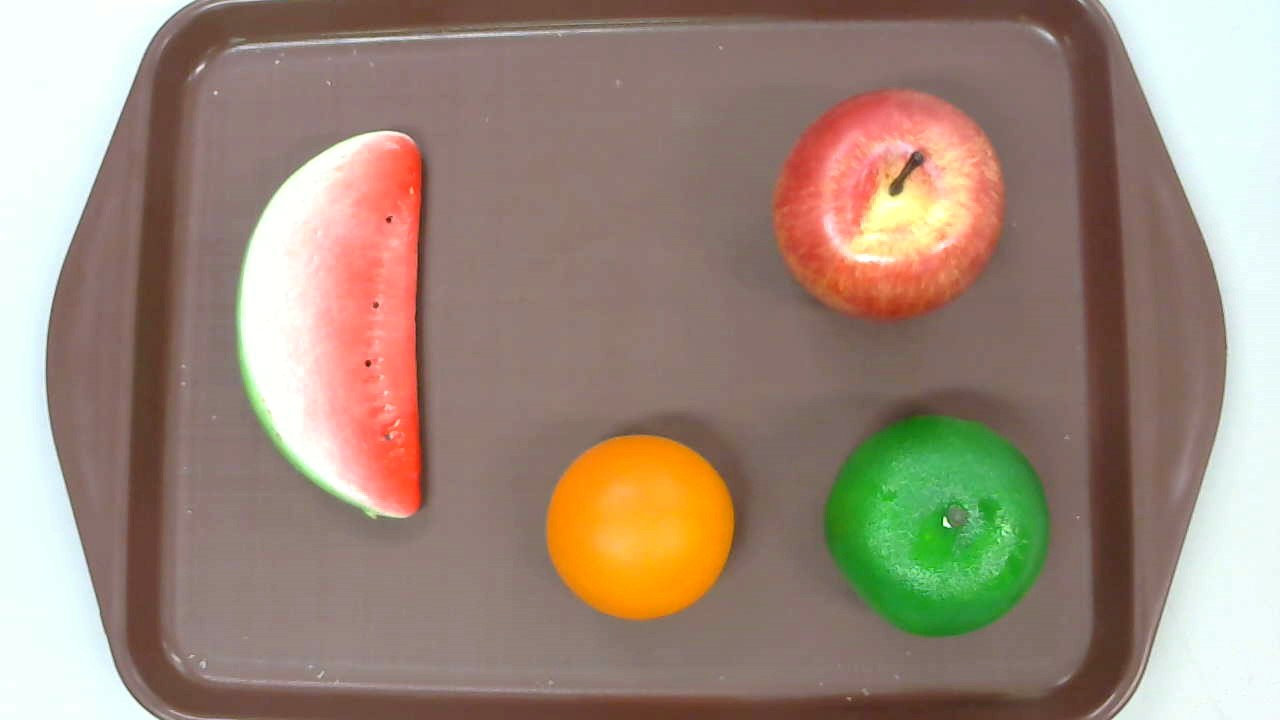bun: (546, 435, 735, 620)
green orange: (824, 415, 1051, 636)
red apple: (772, 87, 1005, 322)
water melon: (234, 131, 423, 523)
